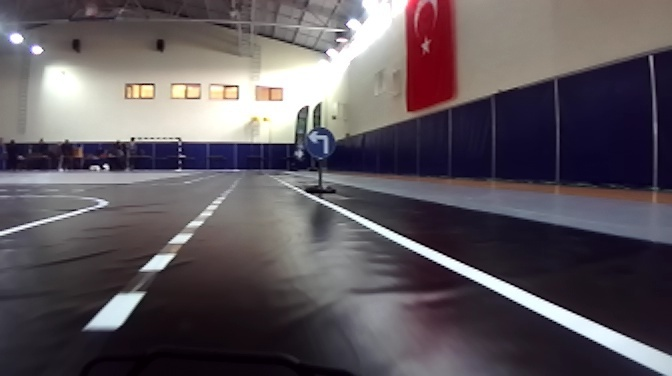sola_donus: (305, 123, 334, 160)
